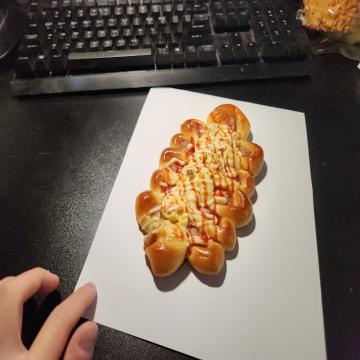pizza_bread: (136, 103, 262, 286)
